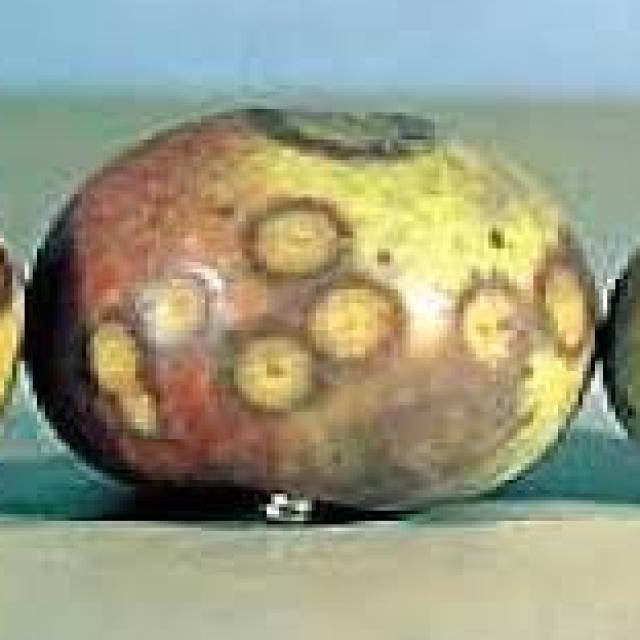inorganic: (8, 93, 620, 534)
